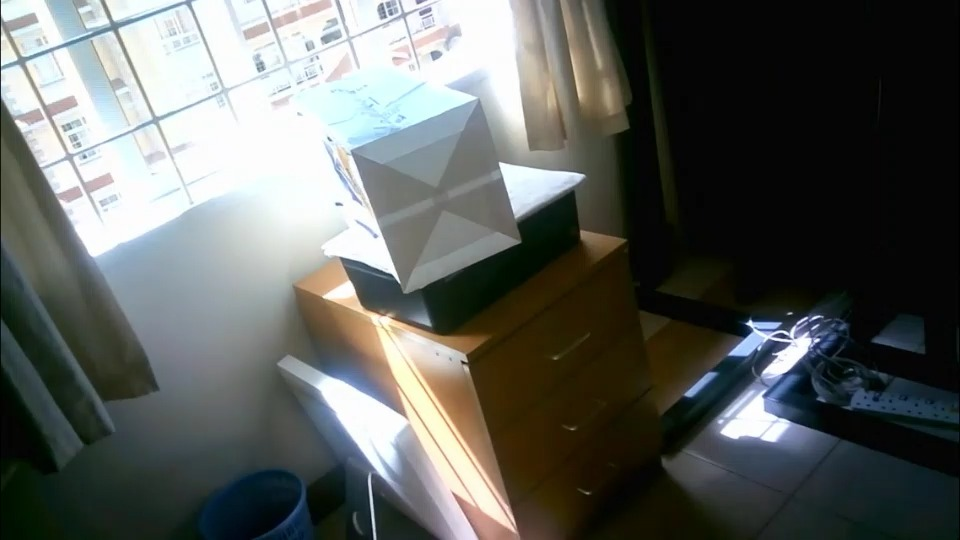wheat_flour_blue_label: (292, 64, 520, 292)
